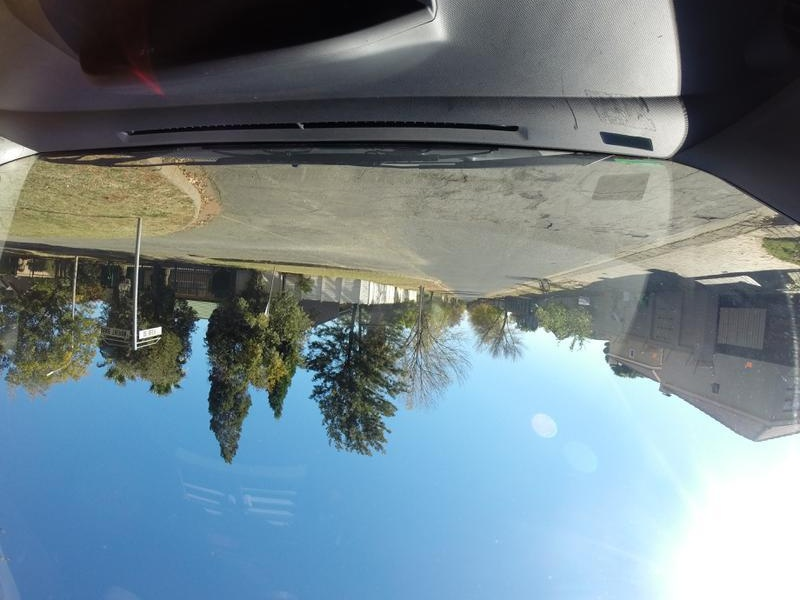pothole: (519, 191, 548, 205), (437, 173, 472, 183), (621, 232, 652, 240), (536, 221, 554, 229), (692, 216, 720, 221)
